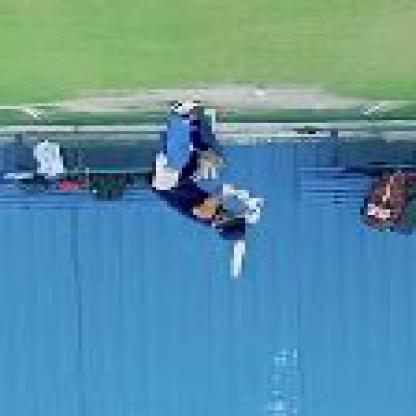ball: (244, 81, 272, 98)
